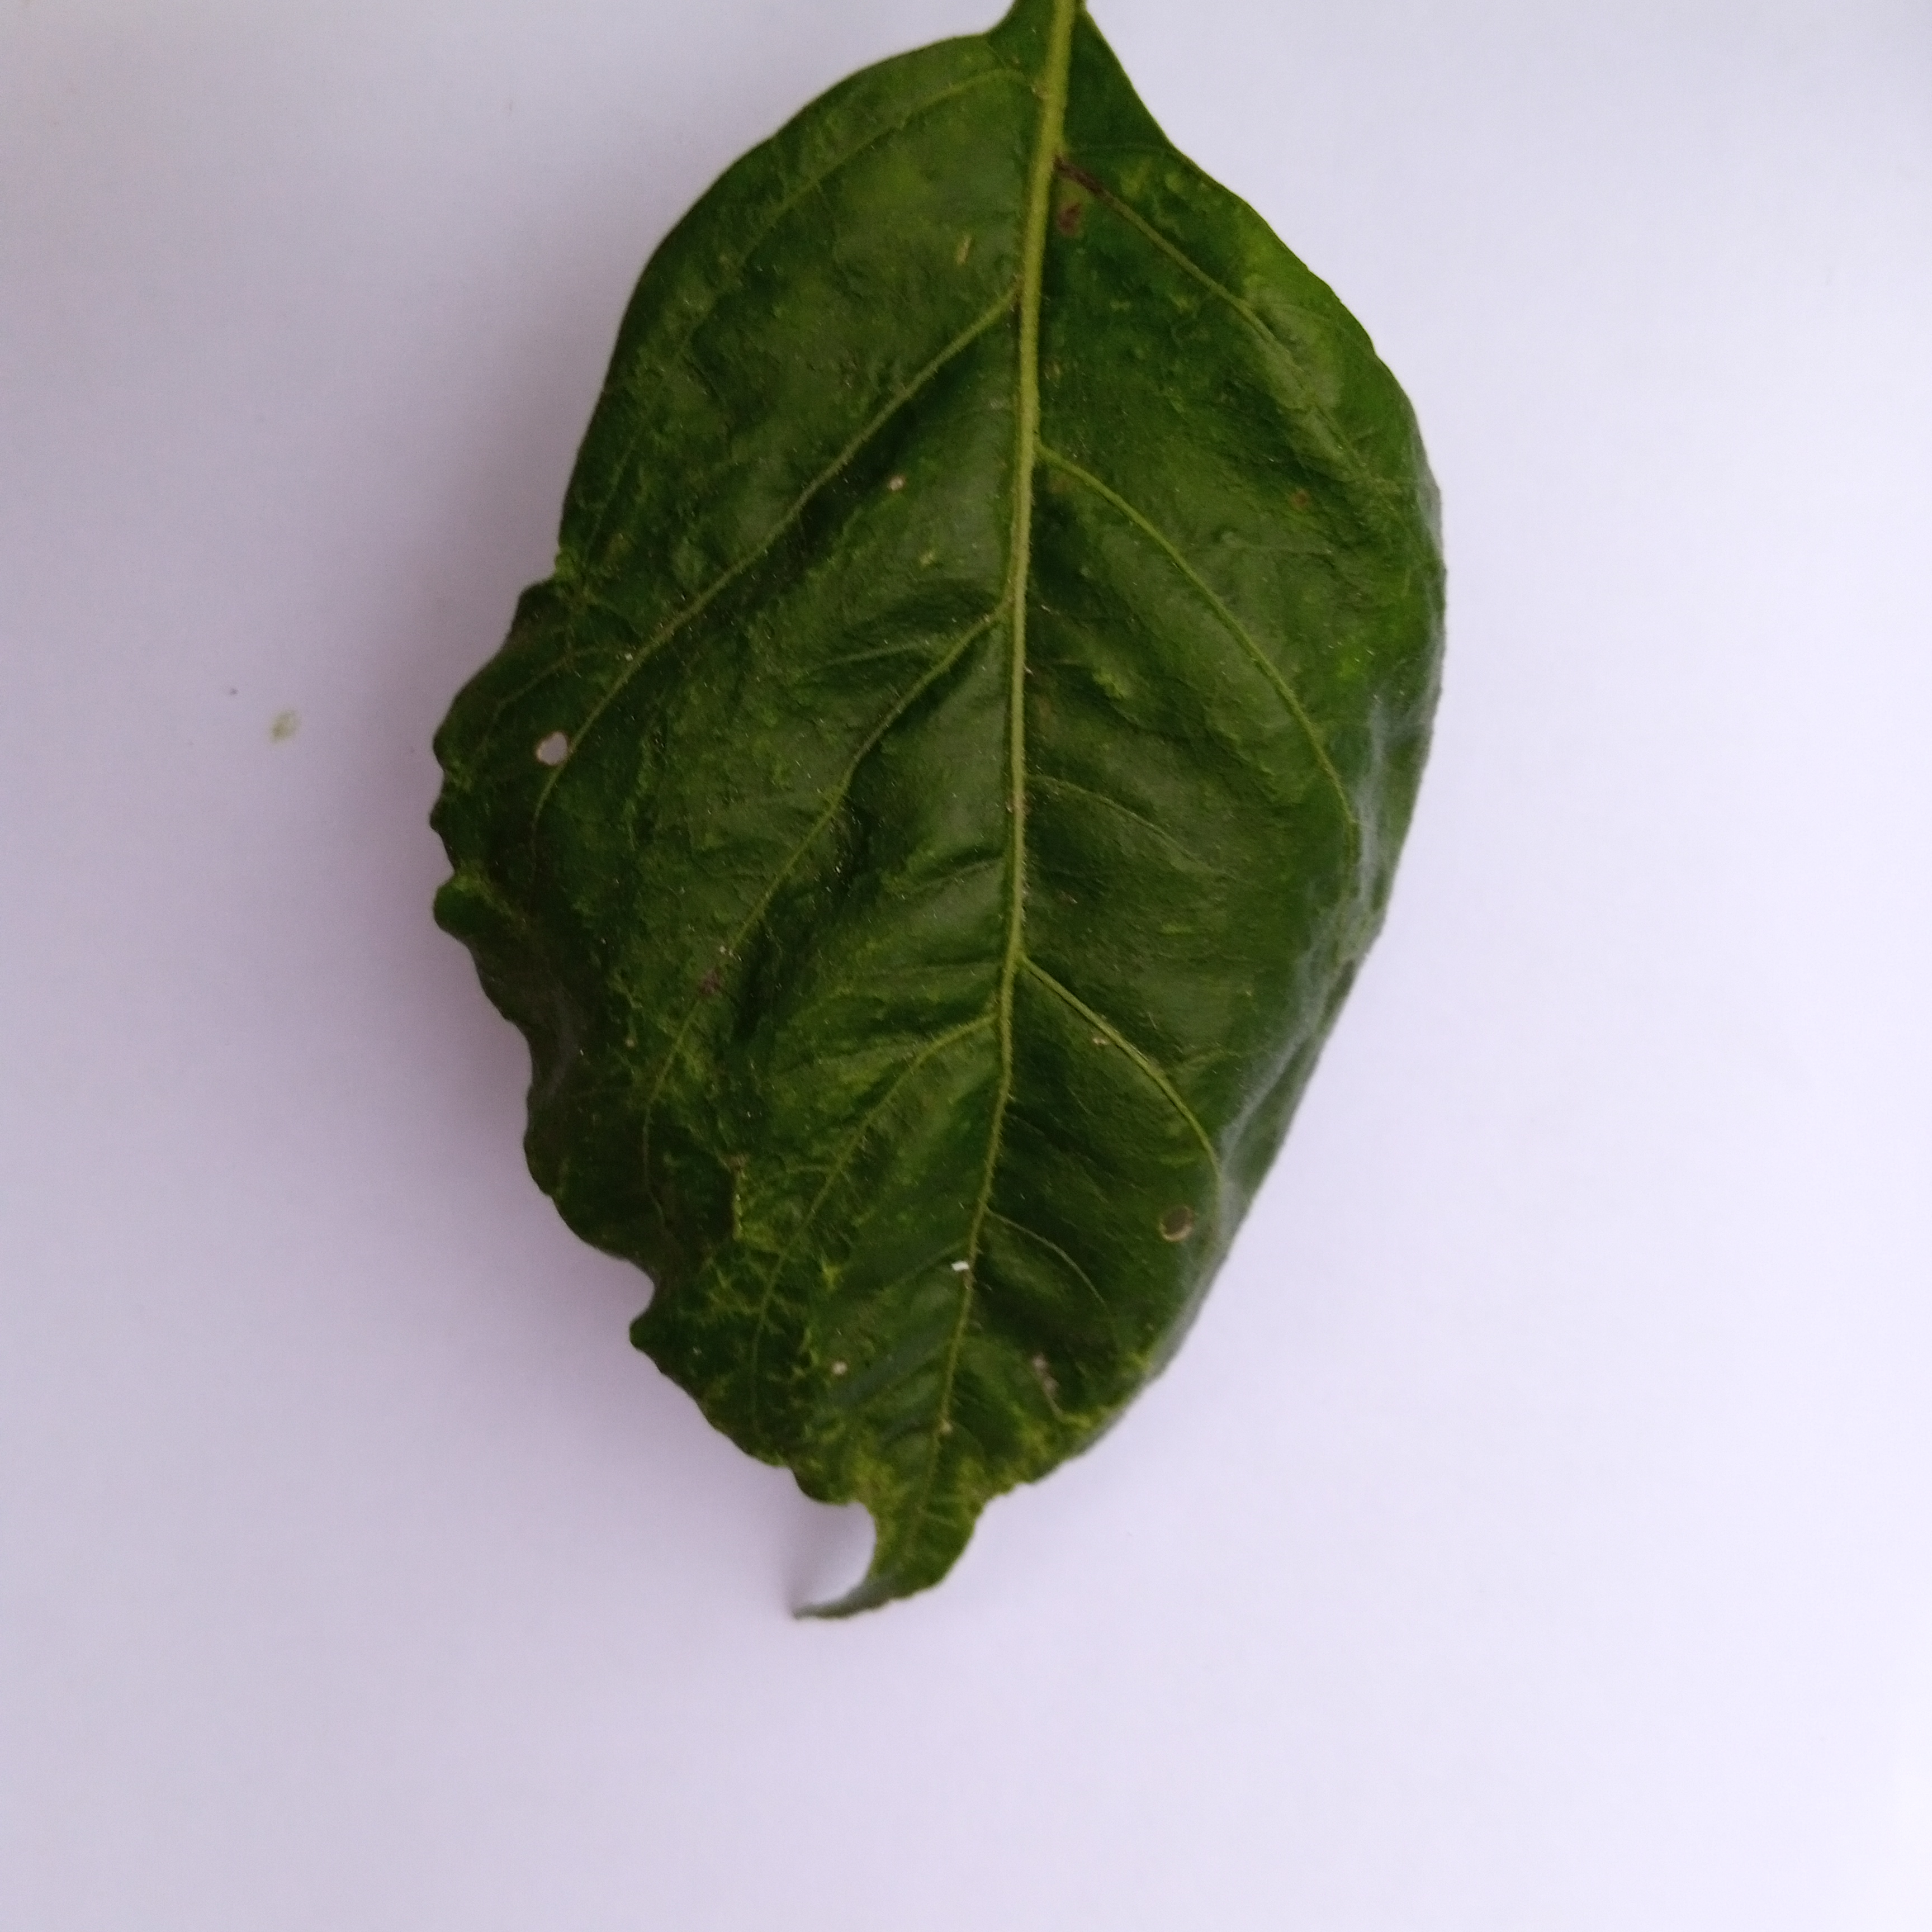Leaf: (349, 21, 1484, 1645)
